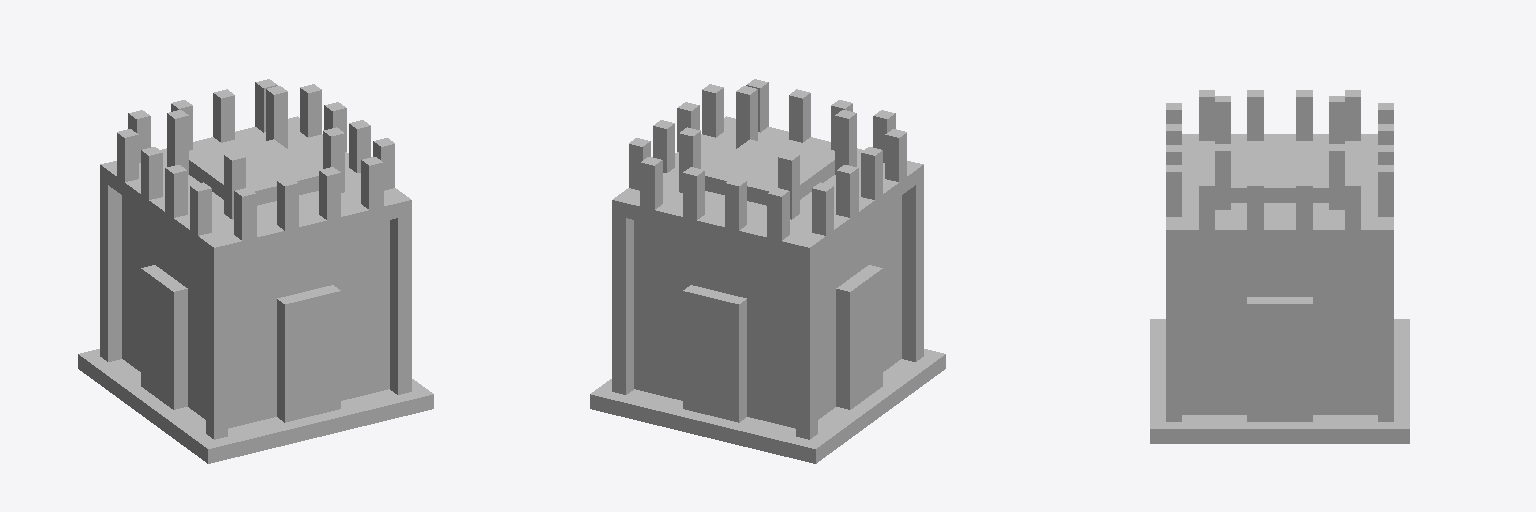
Rendered from dreadaltarbottom.obj.
The picture shows the model from 3 angles: view 1: azimuth 30°, elevation 25°; view 2: azimuth 150°, elevation 25°; view 3: azimuth 270°, elevation 25°; orthographic projection.
Visible parts, largest first — view 1: center, top, bottom, symbol2, symbol3, centerpad, pillar4, pillar3, pillar2, centerspike2, centerspike3, toothspike15 (+16 smaller); view 2: center, top, bottom, symbol1, symbol3, centerpad, pillar2, pillar1, pillar4, centerspike1, centerspike4, toothspike14 (+16 smaller); view 3: center, top, bottom, symbol4, centerpad, pillar3, pillar1, centerspike3, centerspike4, toothspike6, toothspike7, toothspike14 (+9 smaller).
Boxes of the visible parts, x1,y1,x2,y2 form: center: [122, 196, 389, 428]; top: [100, 116, 411, 262]; bottom: [78, 349, 433, 463]; symbol2: [277, 285, 340, 422]; symbol3: [141, 265, 187, 409]; centerpad: [189, 139, 318, 205]; pillar4: [206, 257, 227, 439]; pillar3: [390, 215, 411, 394]; pillar2: [100, 180, 121, 361]; centerspike2: [167, 110, 188, 174]; centerspike3: [266, 86, 287, 148]; toothspike15: [165, 165, 187, 217]; center: [634, 196, 901, 428]; top: [612, 116, 923, 262]; bottom: [590, 349, 945, 463]; symbol1: [683, 285, 746, 422]; symbol3: [836, 265, 882, 409]; centerpad: [705, 139, 834, 205]; pillar2: [796, 257, 817, 439]; pillar1: [612, 215, 633, 394]; pillar4: [902, 180, 923, 361]; centerspike1: [835, 110, 856, 174]; centerspike4: [736, 86, 757, 148]; toothspike14: [836, 165, 858, 217]; center: [1182, 245, 1377, 414]; top: [1166, 134, 1393, 244]; bottom: [1150, 319, 1409, 443]; symbol4: [1247, 297, 1312, 421]; centerpad: [1231, 147, 1328, 202]; pillar3: [1166, 245, 1181, 421]; pillar1: [1378, 245, 1393, 421]; centerspike3: [1329, 144, 1344, 209]; centerspike4: [1215, 144, 1230, 209]; toothspike6: [1247, 179, 1263, 229]; toothspike7: [1296, 179, 1312, 229]; toothspike14: [1296, 90, 1312, 140].
Size of the model in its own units: 1 by 1.12 by 1.